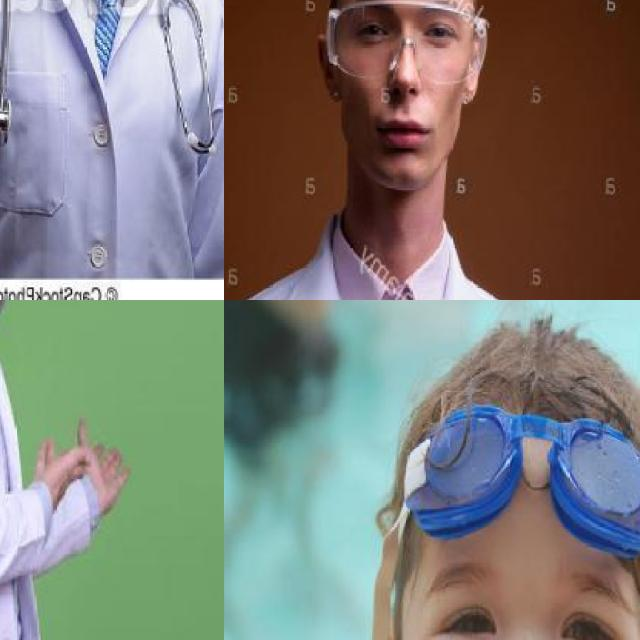No_Glasses: (407, 553, 640, 640)
face_nomask: (333, 0, 467, 167), (431, 583, 620, 640)
glasses: (396, 400, 640, 583), (323, 0, 485, 83)
hand_noglove: (72, 413, 135, 516), (34, 432, 95, 501)
head_nohelmet: (386, 300, 640, 568)
person: (224, 0, 610, 300), (0, 0, 224, 277), (0, 300, 130, 640)
